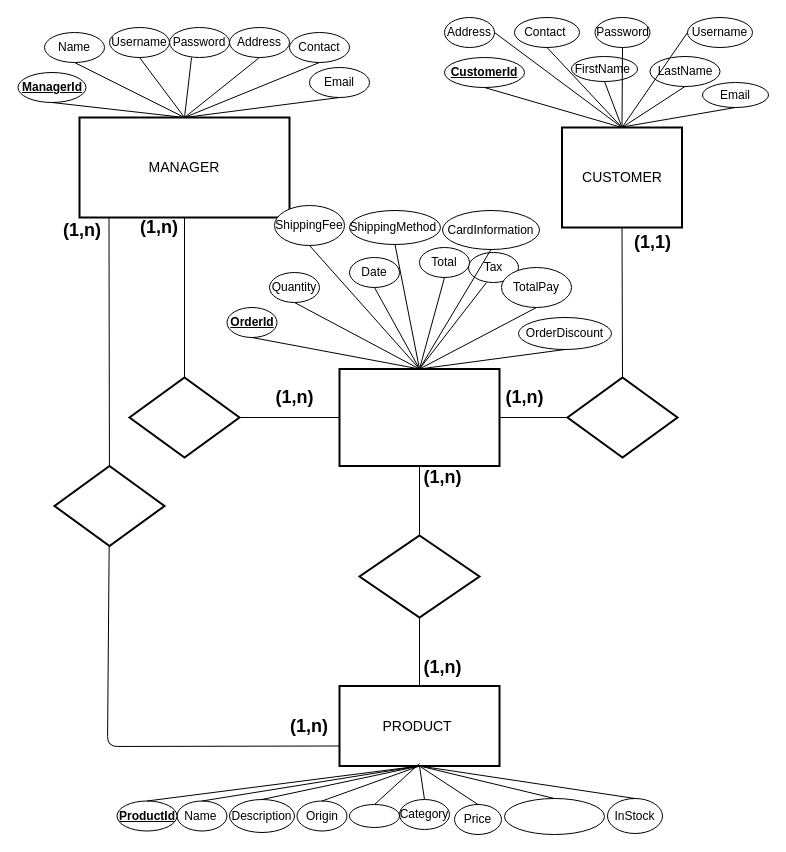
The diagram is 786 pixels wide and 852 high, and some of its shapes have lost their labels. Here are the shapes that lost their labels. From the top down, the centre of each, then its label:
At (x=184, y=417): "CONFIRMS".
At (x=419, y=417): "ORDER".
At (x=622, y=417): "BUYS".
At (x=109, y=505): "MANAGES".
At (x=419, y=576): "COMPRISES".
At (x=374, y=816): "Brand".
At (x=554, y=816): "ProductDiscount".
